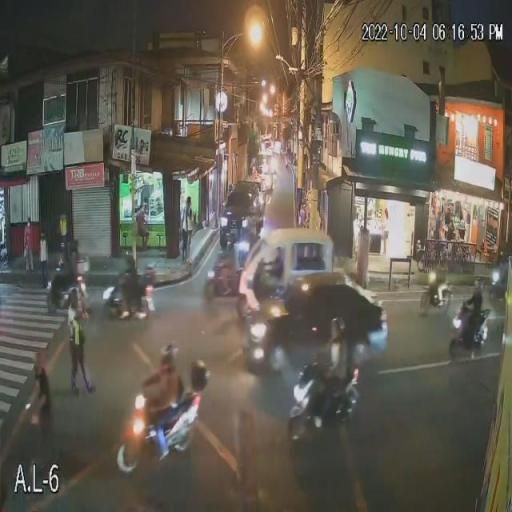helmet: (328, 316, 345, 333), (162, 344, 179, 358), (122, 250, 137, 265), (469, 281, 483, 295)
motorcycle: (116, 381, 205, 474), (287, 358, 362, 442), (448, 300, 490, 363), (102, 274, 156, 322), (46, 267, 90, 320), (203, 259, 244, 304), (418, 269, 452, 316), (232, 235, 252, 270)
rider: (141, 342, 185, 456), (314, 315, 352, 414), (458, 280, 486, 342), (118, 252, 144, 314), (52, 242, 78, 302), (210, 250, 236, 298), (422, 254, 446, 304), (234, 214, 254, 249)
